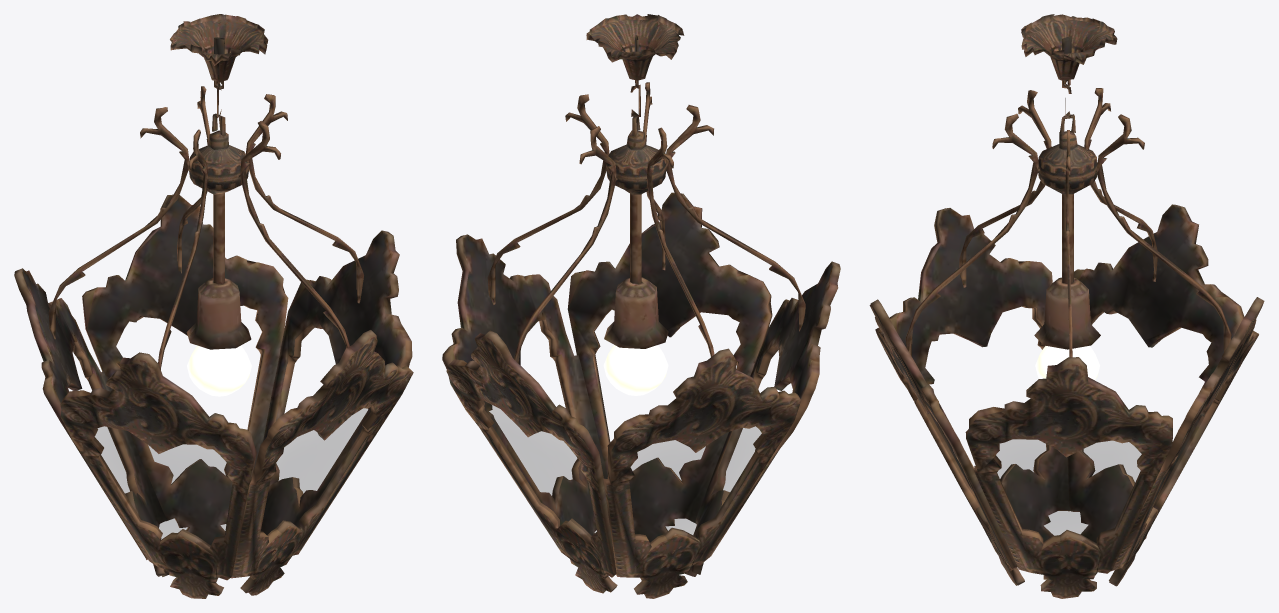
Rendered from lantern_chandelier_01.glb.
The picture shows the model from 3 angles, left to right: view 1: azimuth 30°, elevation 25°; view 2: azimuth 150°, elevation 25°; view 3: azimuth 270°, elevation 25°; orthographic projection.
Parts seen in each view (by area): view 1: lantern_chandelier_01; view 2: lantern_chandelier_01; view 3: lantern_chandelier_01.
Boxes of the visible parts, x1=… form: lantern_chandelier_01: x1=14, y1=14, x2=413, y2=598; lantern_chandelier_01: x1=442, y1=14, x2=840, y2=598; lantern_chandelier_01: x1=869, y1=14, x2=1264, y2=598.
Size of the model in its own units: 0.5792 by 0.8776 by 0.5746.
Materials: 3 (2 with a texture image).
